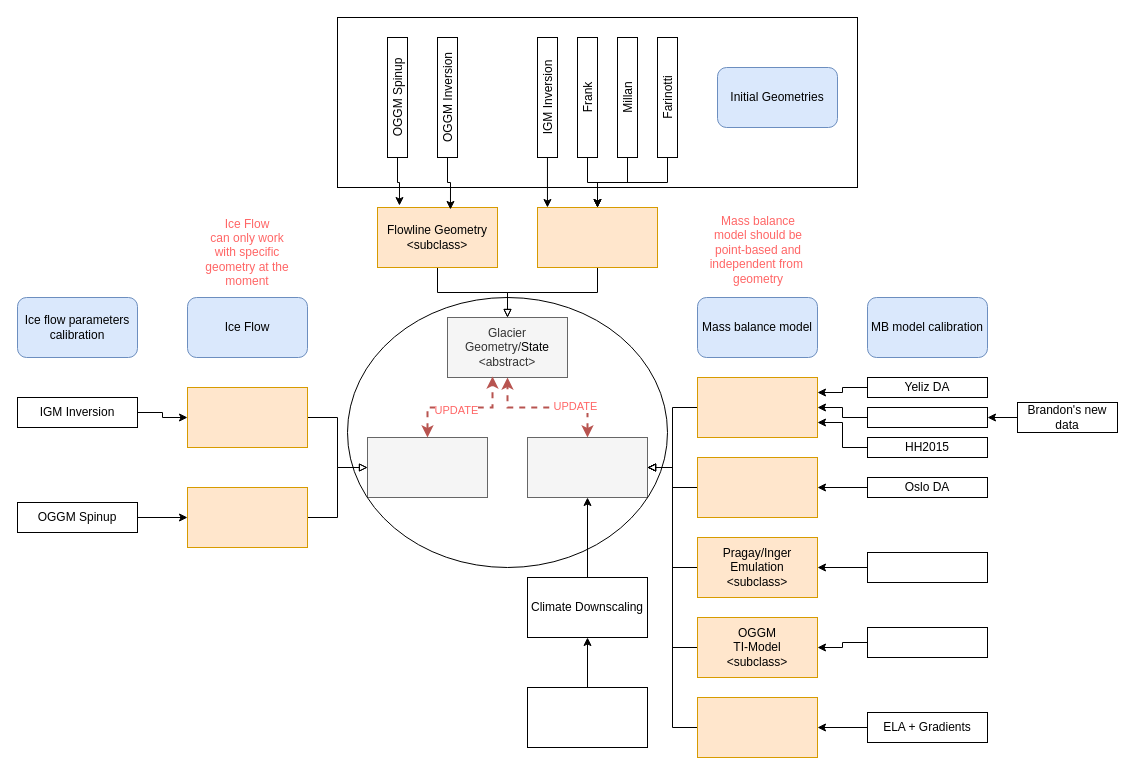
Some shapes in this 1135 by 775 pixel diagram are drawn without their labels. The shapes that lost their labels are listed below. From the top down, each one's box as (x1, y1, x2, y2) in pixels, then its label:
(536, 206, 658, 268): Distributed Geometry <subclass>
(186, 386, 308, 448): IGM High Order Emulation (distributed) <subclass>
(696, 376, 818, 438): PyGEM TI-Model <subclass>
(866, 406, 988, 428): MCMC
(366, 436, 488, 498): Ice Dynamics <abstract>
(526, 436, 648, 498): Climatic Mass Balance <abstract>
(696, 456, 818, 518): Greg MB model <subclass>
(186, 486, 308, 548): OGGM SIA (flowline) <subclass>
(866, 552, 988, 582): Pragay/Inger Calibration
(866, 626, 988, 658): OGGM Informed Threestep
(526, 686, 648, 748): Climate Data
(696, 696, 818, 758): OGGM Linear Model <subclass>
